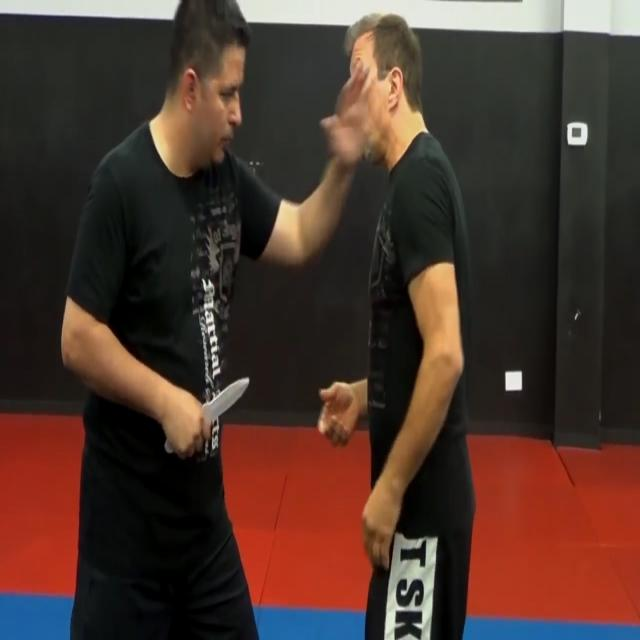knife: (202, 376, 256, 430)
